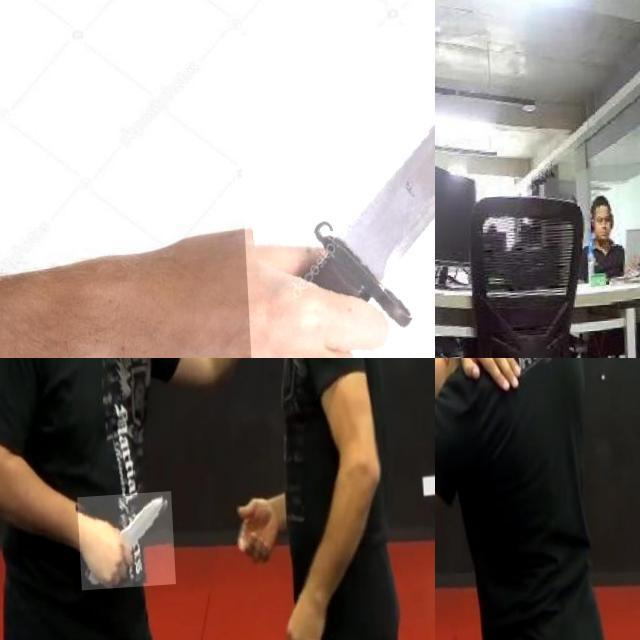-: (233, 21, 435, 358), (73, 494, 171, 592), (435, 564, 479, 640), (435, 255, 465, 358)
